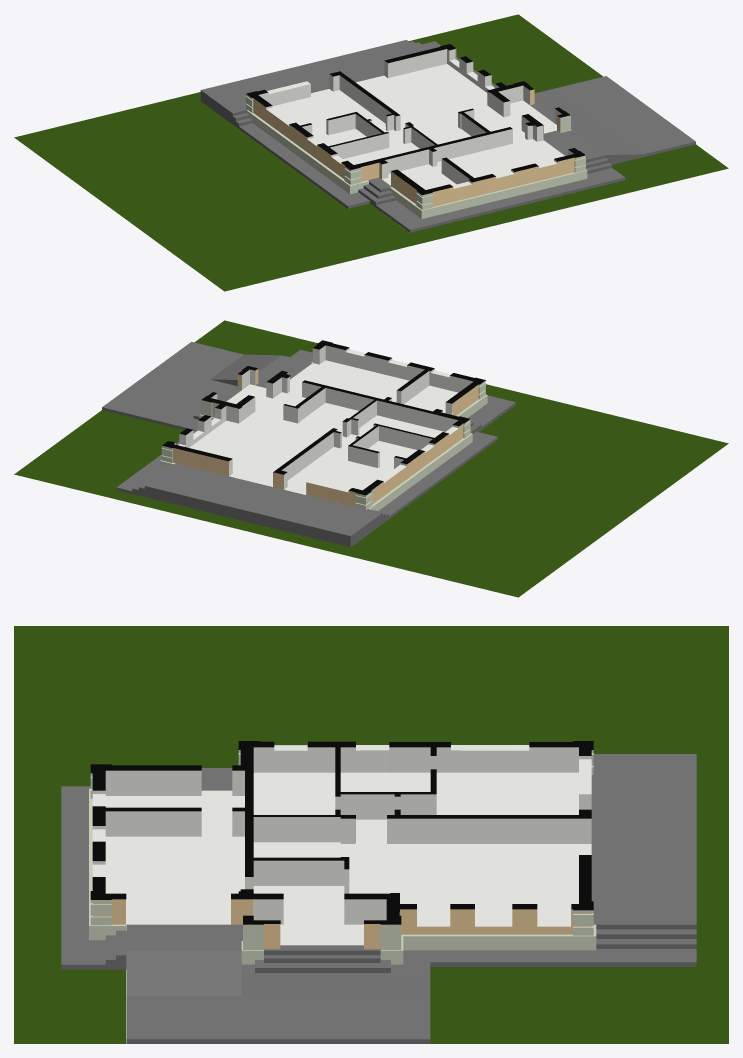
Rendered from casaStolnicu_groundFloor.glb.
3 views of the same model, one above another, from view 1: azimuth 30°, elevation 25°; view 2: azimuth 150°, elevation 25°; view 3: azimuth 270°, elevation 25° (orthographic). The views are drawn at different scales.
Visible parts, largest first — view 1: Plane, Plane.003, Sectiune-01; view 2: Plane, Plane.003, Sectiune-01; view 3: Plane, Plane.003, Sectiune-01.
Boxes of the visible parts, x1,y1,x2,y2 form: Plane: [14, 14, 728, 291]; Plane.003: [258, 49, 573, 189]; Sectiune-01: [246, 44, 585, 194]; Plane: [14, 320, 728, 597]; Plane.003: [174, 345, 473, 494]; Sectiune-01: [162, 340, 485, 495]; Plane: [14, 626, 728, 1043]; Plane.003: [92, 745, 591, 945]; Sectiune-01: [90, 741, 593, 924].
Bounding box in the file's own units: 28.4 × 1.4 × 20.53.
